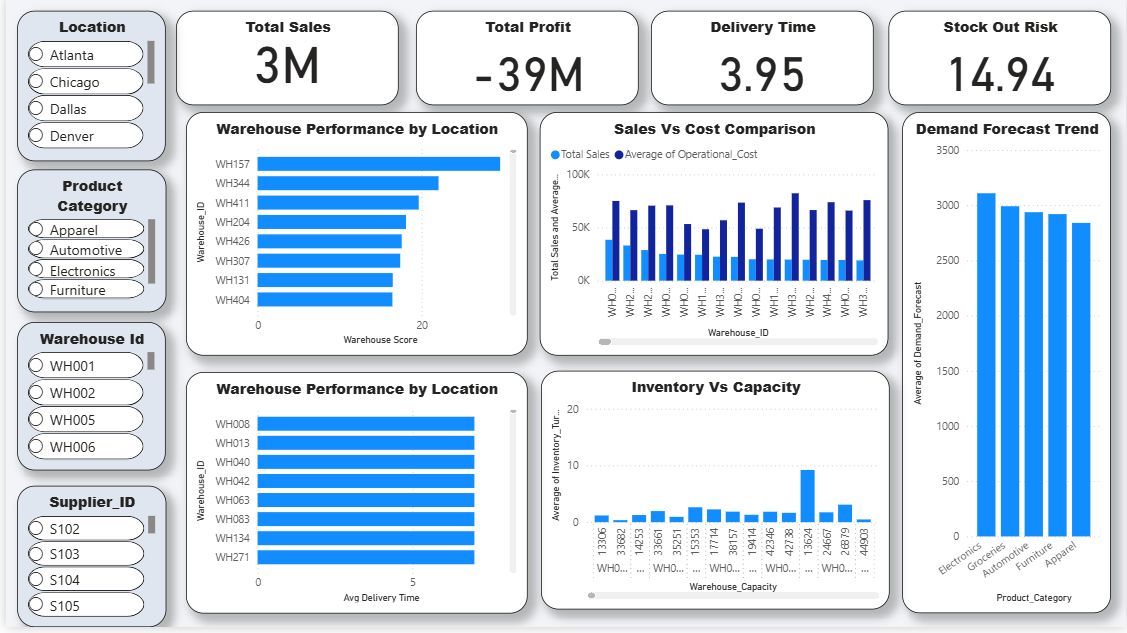

What the dashboard file says about the page in this screenshot:
{"tool":"powerbi","page":{"name":"Page 1","canvas":[1280,720],"ordinal":0},"visuals":[{"type":"card","title":"Total Sales","fields":{"Values":["SwiftOps_Cleaned_FeatureEngineered.Total Sales"]},"box":[194.2,16.3,254.7,108.1],"z":0},{"type":"card","title":"Total Profit","fields":{"Values":["SwiftOps_Cleaned_FeatureEngineered.Total Profit"]},"box":[468.6,16.3,254.7,108.1],"z":1000},{"type":"card","title":"Stock Out Risk","fields":{"Values":["SwiftOps_Cleaned_FeatureEngineered.Avg Stockout Risk"]},"box":[1008.1,16.3,254.7,108.1],"z":2000},{"type":"card","title":"Delivery Time","fields":{"Values":["SwiftOps_Cleaned_FeatureEngineered.Avg Delivery Time"]},"box":[737.2,16.3,254.7,108.1],"z":3000},{"type":"listSlicer","fields":{"Values":["SwiftOps_Cleaned_FeatureEngineered.Location"]},"box":[12.8,16.3,169.8,172.1],"z":4000},{"type":"listSlicer","title":"Product Category","fields":{"Values":["SwiftOps_Cleaned_FeatureEngineered.Product_Category"]},"box":[12.9,197.1,170,162.9],"z":5000},{"type":"listSlicer","title":"Warehouse Id","fields":{"Values":["SwiftOps_Cleaned_FeatureEngineered.Warehouse_ID"]},"box":[12.8,370.9,169.8,169.8],"z":6000},{"type":"listSlicer","fields":{"Values":["SwiftOps_Cleaned_FeatureEngineered.Supplier_ID"]},"box":[12.9,558.6,170,161.4],"z":7000},{"type":"clusteredBarChart","title":"Warehouse Performance by Location","fields":{"Category":["SwiftOps_Cleaned_FeatureEngineered.Warehouse_ID"],"Y":["SwiftOps_Cleaned_FeatureEngineered.Warehouse Score"]},"box":[205.7,131.4,390,278.6],"z":8000},{"type":"clusteredColumnChart","title":"Sales Vs Cost Comparison ","fields":{"Category":["SwiftOps_Cleaned_FeatureEngineered.Warehouse_ID"],"Y":["SwiftOps_Cleaned_FeatureEngineered.Total Sales","Avg(SwiftOps_Cleaned_FeatureEngineered.Operational_Cost)"]},"box":[610,131.4,398.6,278.6],"z":10000},{"type":"clusteredColumnChart","title":"Demand Forecast Trend","fields":{"Category":["SwiftOps_Cleaned_FeatureEngineered.Product_Category"],"Y":["Avg(SwiftOps_Cleaned_FeatureEngineered.Demand_Forecast)"]},"box":[1024.3,131.4,238.6,572.9],"z":11000},{"type":"lineClusteredColumnComboChart","title":"Inventory Vs Capacity","fields":{"Category":["SwiftOps_Cleaned_FeatureEngineered.Warehouse_ID","SwiftOps_Cleaned_FeatureEngineered.Warehouse_Capacity"],"Y":["Avg(SwiftOps_Cleaned_FeatureEngineered.Inventory_Turnover)"]},"box":[611.4,427.1,398.6,272.9],"z":12000},{"type":"clusteredBarChart","title":"Warehouse Performance by Location","fields":{"Category":["SwiftOps_Cleaned_FeatureEngineered.Warehouse_ID"],"Y":["SwiftOps_Cleaned_FeatureEngineered.Avg Delivery Time"]},"box":[205.7,428.6,390,275.7],"z":12001}]}

Visuals, with their boxes in screenshot pixels (x1, y1, x2, y2), scaled from the page's 1280x720 canvas onto the 1127x633 screenshot:
"Total Sales" card: l=171, t=14, r=395, b=109
"Total Profit" card: l=413, t=14, r=637, b=109
"Stock Out Risk" card: l=888, t=14, r=1112, b=109
"Delivery Time" card: l=649, t=14, r=873, b=109
listSlicer - SwiftOps_Cleaned_FeatureEngineered.Location: l=11, t=14, r=161, b=166
"Product Category" listSlicer: l=11, t=173, r=161, b=316
"Warehouse Id" listSlicer: l=11, t=326, r=161, b=475
listSlicer - SwiftOps_Cleaned_FeatureEngineered.Supplier_ID: l=11, t=491, r=161, b=632
"Warehouse Performance by Location" clusteredBarChart: l=181, t=116, r=524, b=360
"Sales Vs Cost Comparison " clusteredColumnChart: l=537, t=116, r=888, b=360
"Demand Forecast Trend" clusteredColumnChart: l=902, t=116, r=1112, b=619
"Inventory Vs Capacity" lineClusteredColumnComboChart: l=538, t=375, r=889, b=615
"Warehouse Performance by Location" clusteredBarChart: l=181, t=377, r=524, b=619
